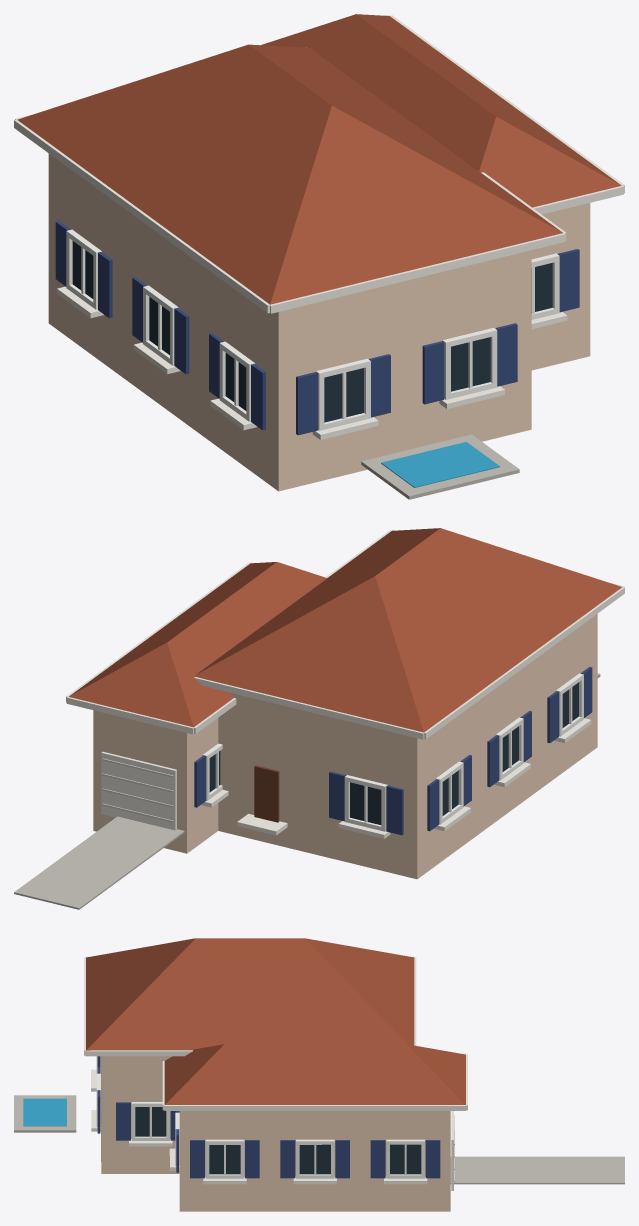
3 renders of one model, top to bottom at view 1: azimuth 30°, elevation 25°; view 2: azimuth 150°, elevation 25°; view 3: azimuth 270°, elevation 25°, orthographic. The views are drawn at different scales.
Visible parts, largest first — view 1: b2350; view 2: b2350; view 3: b2350.
Boxes of the visible parts, bbox=[...] form: b2350: bbox=[14, 14, 624, 499]; b2350: bbox=[14, 528, 624, 909]; b2350: bbox=[14, 938, 624, 1211].
Size of the model in its own units: 5039 by 3472 by 9821.
